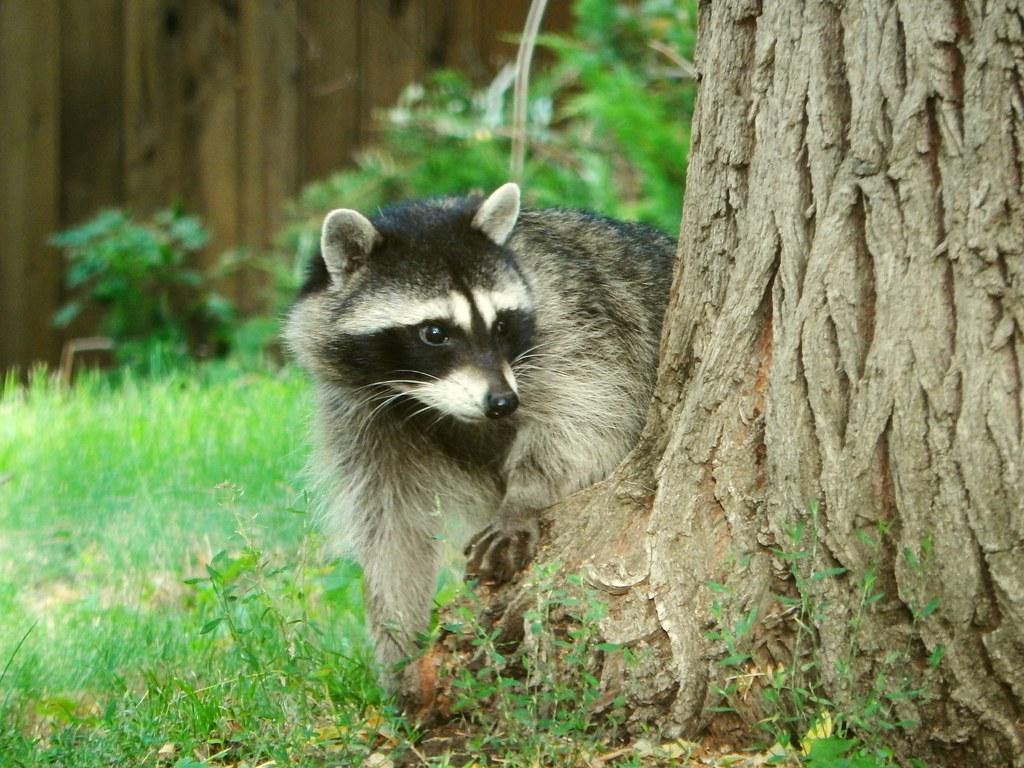raccoon: (260, 188, 717, 711)
